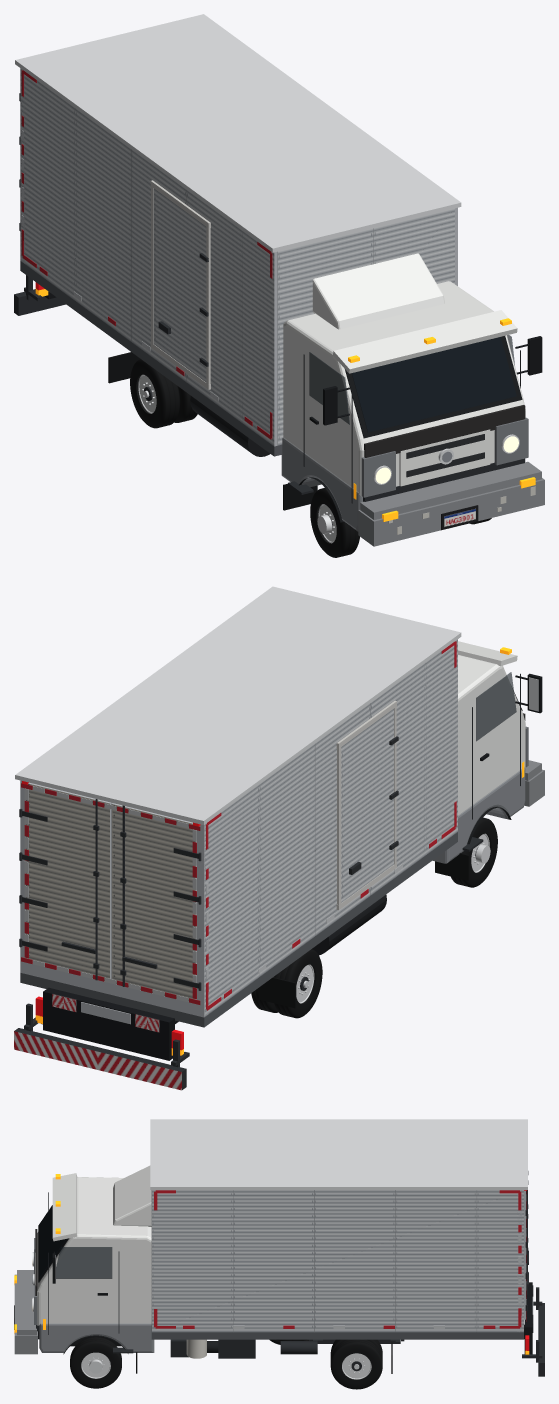
Rendered from vw_delivery_hag.glb.
3 views of the same model, one above another, from view 1: azimuth 30°, elevation 25°; view 2: azimuth 150°, elevation 25°; view 3: azimuth 270°, elevation 25° (orthographic). The views are drawn at different scales.
Visible parts, largest first — view 1: Roof, Side_Panel, Cab_Body, Windshield_Frame, Front_Wall, Windshield, Side_Door, Roof_Deflector, Sun_Visor, Front_Bumper, Tire (×2), Front_Bumper_Lip (+11 smaller); view 2: Roof, Side_Panel (×2), Rear_Door (×2), Side_Door, Cab_Body, Rear_Panel, Floor_Frame, Rear_Underride_Bar, Tire (×2), Cab_Skirt, Rear_Sill, Rear_Post (×2) (+5 smaller); view 3: Side_Panel, Roof, Cab_Body, Tire (×2), Floor_Frame, Cab_Skirt, Roof_Deflector, Door_Glass, Sun_Visor, Front_Bumper_Lip, Windshield_Frame, Rim_Barrel (×2) (+7 smaller).
Boxes of the visible parts, <box> form: Roof: <box>15,14,461,252</box>; Side_Panel: <box>20,68,277,446</box>; Cab_Body: <box>283,281,525,496</box>; Windshield_Frame: <box>345,336,522,438</box>; Front_Wall: <box>277,208,454,445</box>; Windshield: <box>351,337,516,432</box>; Side_Door: <box>153,188,206,382</box>; Roof_Deflector: <box>312,253,444,329</box>; Sun_Visor: <box>333,310,517,373</box>; Front_Bumper: <box>358,478,544,546</box>; Tire (×2): <box>130,359,359,557</box>; Front_Bumper_Lip: <box>360,461,541,519</box>; Roof: <box>15,586,461,824</box>; Side_Panel (×2): <box>20,639,457,1017</box>; Rear_Door (×2): <box>26,782,196,1001</box>; Side_Door: <box>341,708,393,902</box>; Cab_Body: <box>458,655,525,815</box>; Rear_Panel: <box>43,987,174,1060</box>; Floor_Frame: <box>20,832,457,1027</box>; Rear_Underride_Bar: <box>14,1028,186,1090</box>; Tire (×2): <box>274,817,497,1018</box>; Cab_Skirt: <box>432,767,525,863</box>; Rear_Sill: <box>20,961,204,1016</box>; Rear_Post (×2): <box>20,781,208,1016</box>; Side_Panel: <box>151,1190,523,1332</box>; Roof: <box>150,1119,527,1189</box>; Cab_Body: <box>37,1177,151,1325</box>; Tire (×2): <box>70,1337,382,1389</box>; Floor_Frame: <box>151,1332,523,1339</box>; Cab_Skirt: <box>39,1323,154,1352</box>; Roof_Deflector: <box>113,1165,151,1226</box>; Door_Glass: <box>56,1247,112,1278</box>; Sun_Visor: <box>52,1173,77,1241</box>; Front_Bumper_Lip: <box>17,1270,36,1335</box>; Windshield_Frame: <box>38,1205,68,1282</box>; Rim_Barrel (×2): <box>82,1352,370,1378</box>.
Bounding box in the file's own units: 2.72 × 3.4 × 7.84.
Materials: 48 (4 with a texture image).
